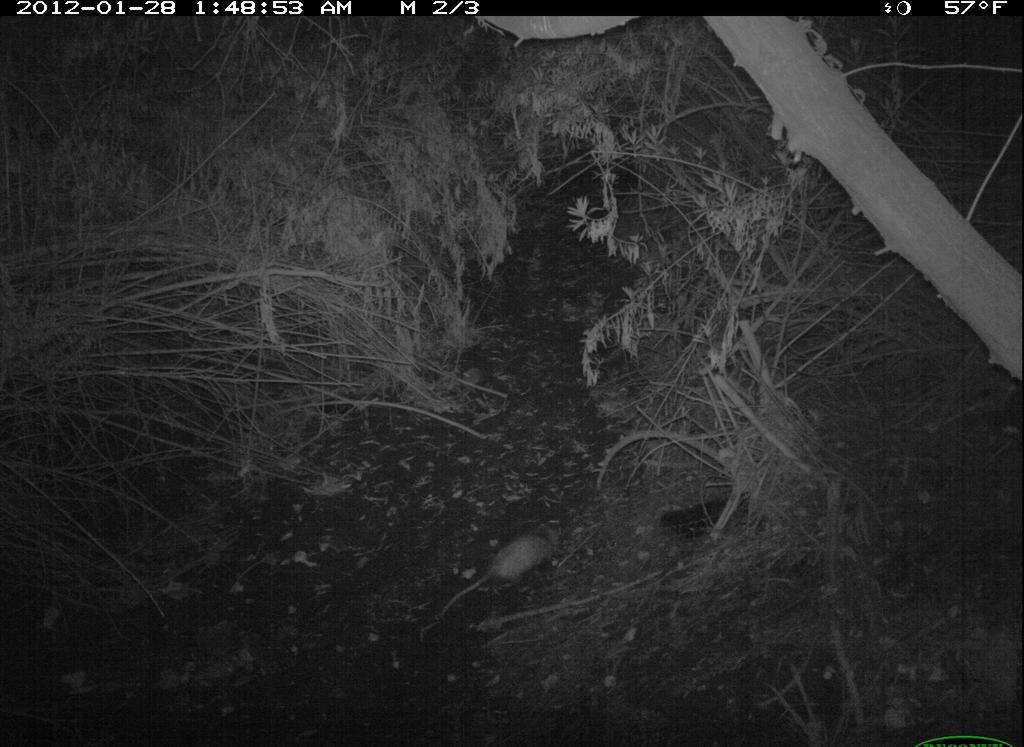opossum: (431, 519, 566, 629)
